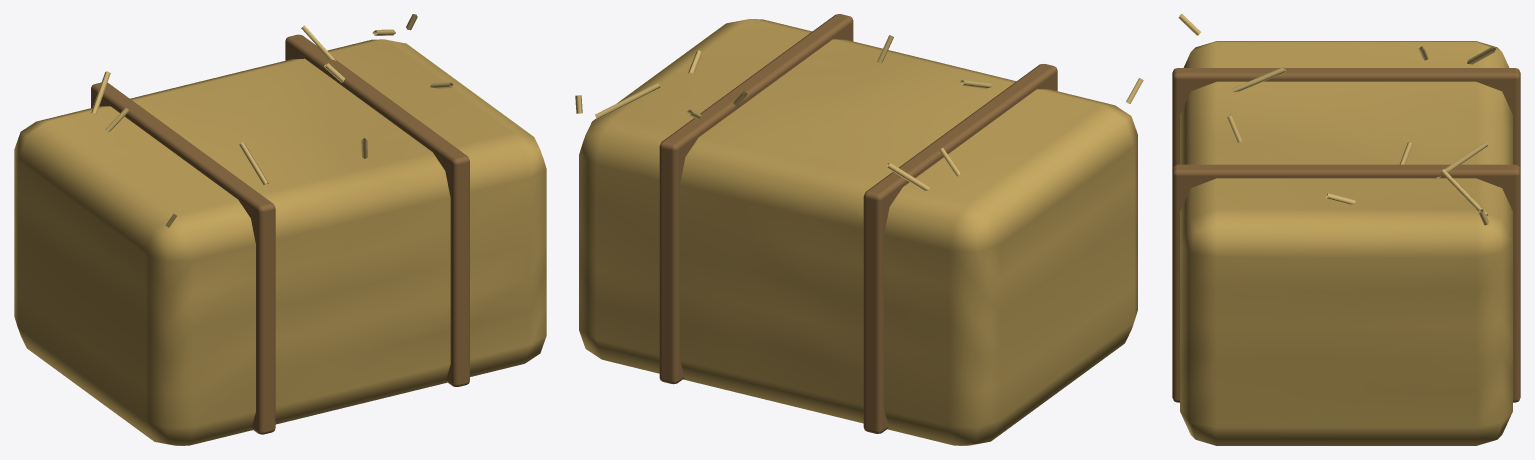
Rendered from hay.glb.
3 views of the same model, side by side, from view 1: azimuth 30°, elevation 25°; view 2: azimuth 150°, elevation 25°; view 3: azimuth 270°, elevation 25° (orthographic). The views are drawn at different scales.
Visible parts, largest first — view 1: hay_main; view 2: hay_main; view 3: hay_main.
Part boxes in pixels (bbox=[...]): hay_main: bbox=[14, 14, 546, 445]; hay_main: bbox=[575, 14, 1143, 445]; hay_main: bbox=[1172, 14, 1520, 445].
Size of the model in its own units: 0.9089 by 0.5637 by 0.67.
